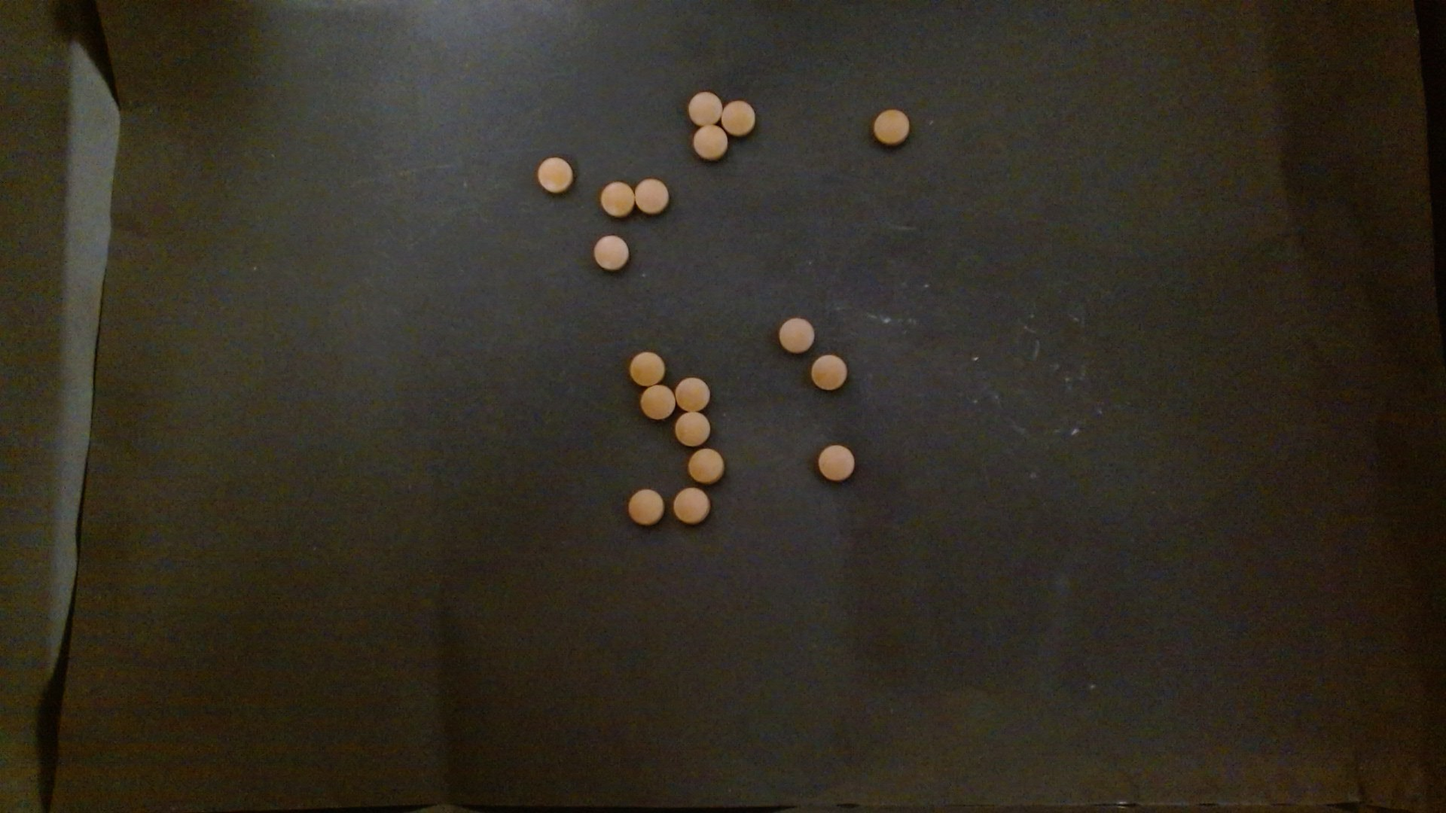Circle: (816, 444, 855, 482), (674, 409, 712, 448), (672, 486, 710, 525), (627, 349, 666, 387), (691, 122, 728, 160), (872, 108, 910, 145), (777, 316, 815, 353), (687, 446, 725, 483), (627, 488, 664, 526), (639, 383, 676, 420), (536, 156, 573, 193), (810, 354, 847, 391), (673, 376, 710, 412), (593, 235, 630, 271), (599, 181, 634, 218), (634, 178, 669, 215), (721, 99, 755, 136), (688, 90, 722, 126)
